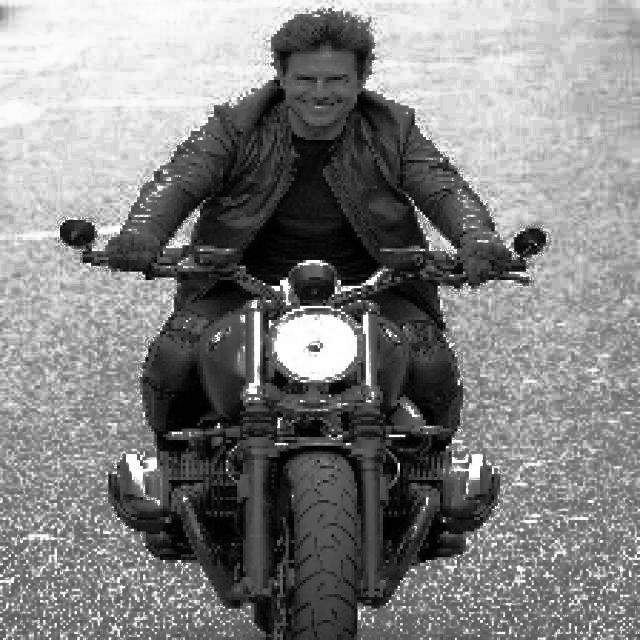Bike: (99, 233, 561, 637)
